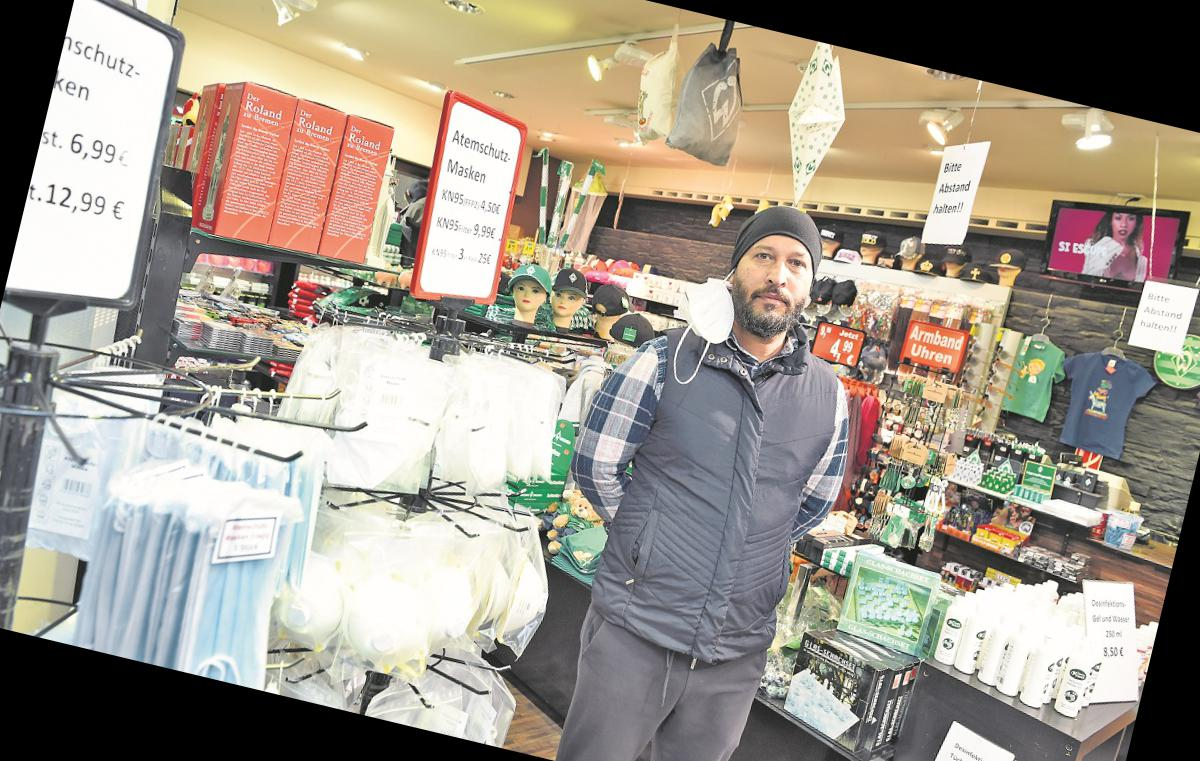without_mask: (738, 242, 812, 337), (1110, 211, 1134, 241)
